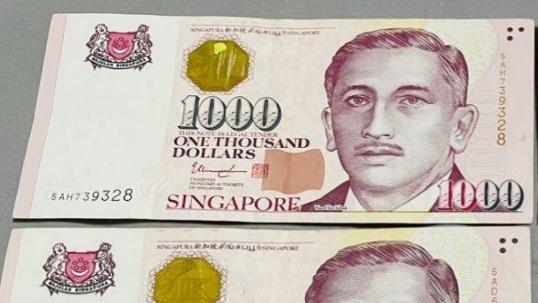1000SingaporeDollar: (50, 24, 531, 218)
